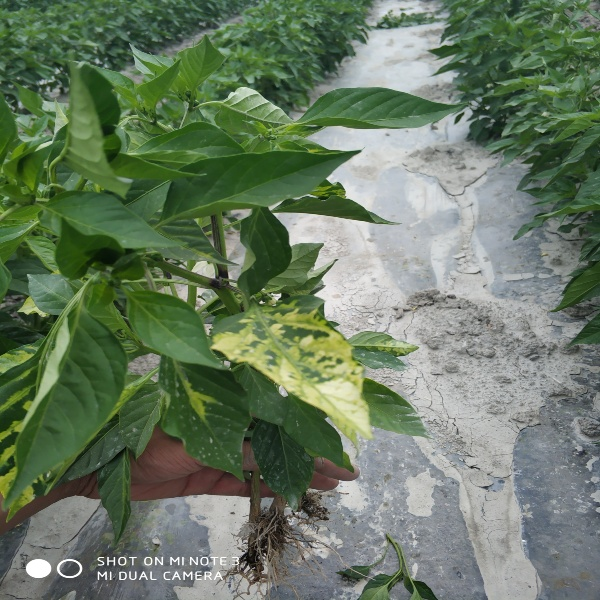blight: (208, 215, 224, 291)
iouv: (209, 294, 376, 439), (157, 353, 250, 481), (1, 337, 55, 520), (348, 330, 419, 359)
